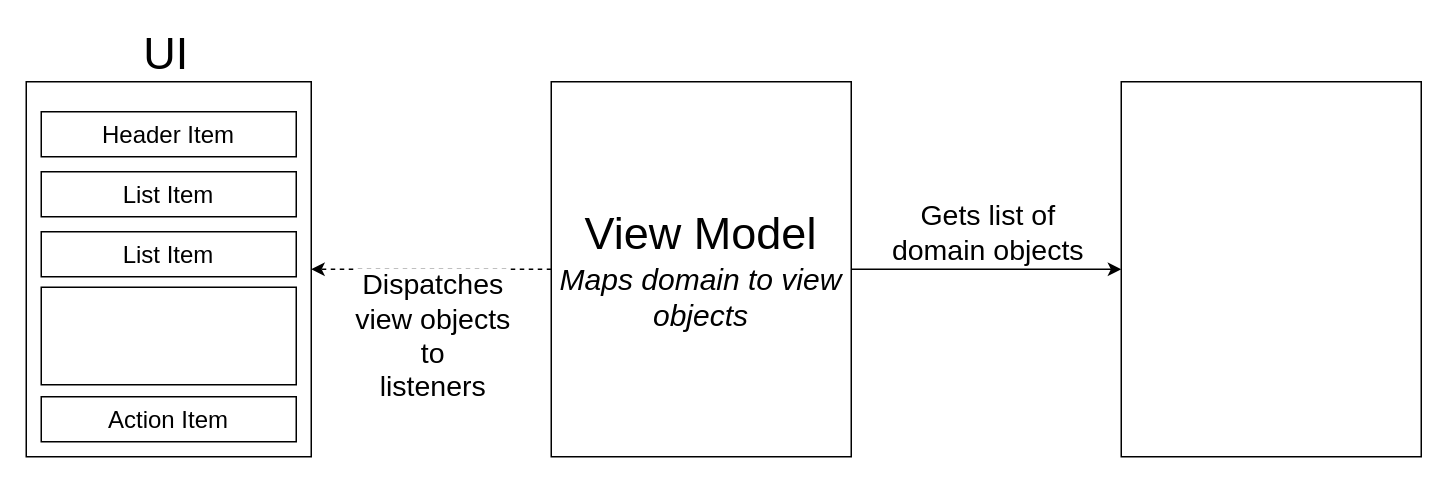
The diagram is 1448 pixels wide and 483 high, and some of its shapes have lost their labels. Each missing label, with the box of its shape:
Detailed List Item: (40, 286, 296, 385)
Use Case: (1120, 80, 1421, 457)
